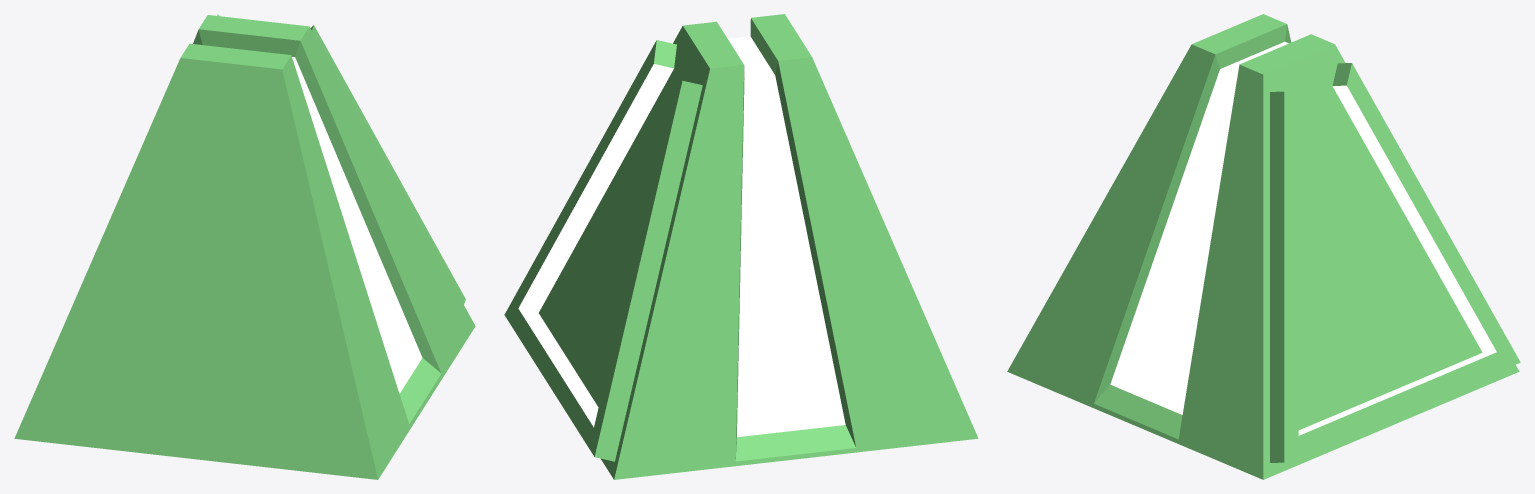
Rendered from Prop4.fbx.
3 views of the same model, side by side, from view 1: azimuth 30°, elevation 25°; view 2: azimuth 150°, elevation 25°; view 3: azimuth 270°, elevation 25° (orthographic). The views are drawn at different scales.
Parts seen in each view (by area): view 1: Cone.001; view 2: Cone.001; view 3: Cone.001.
Part boxes in pixels (x1,y1,x2,y2): Cone.001: (14, 14, 475, 479); Cone.001: (504, 14, 978, 479); Cone.001: (1007, 14, 1520, 479).
Size of the model in its own units: 200 by 141 by 200.
